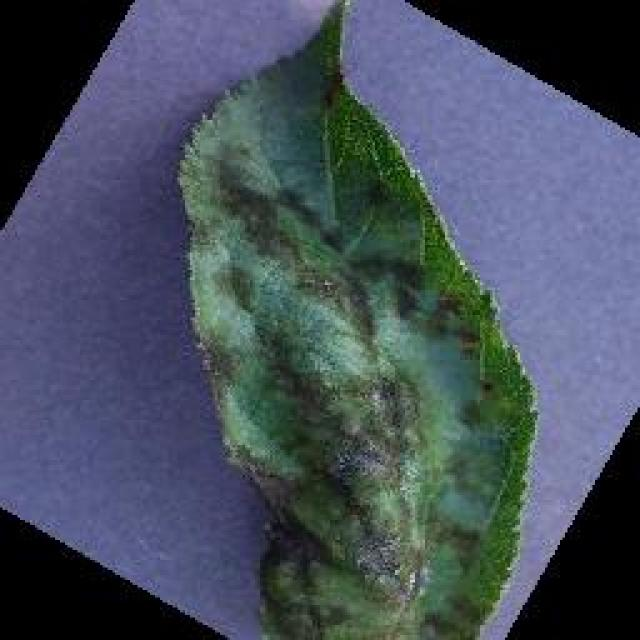apple scab disease: (172, 10, 540, 638)
